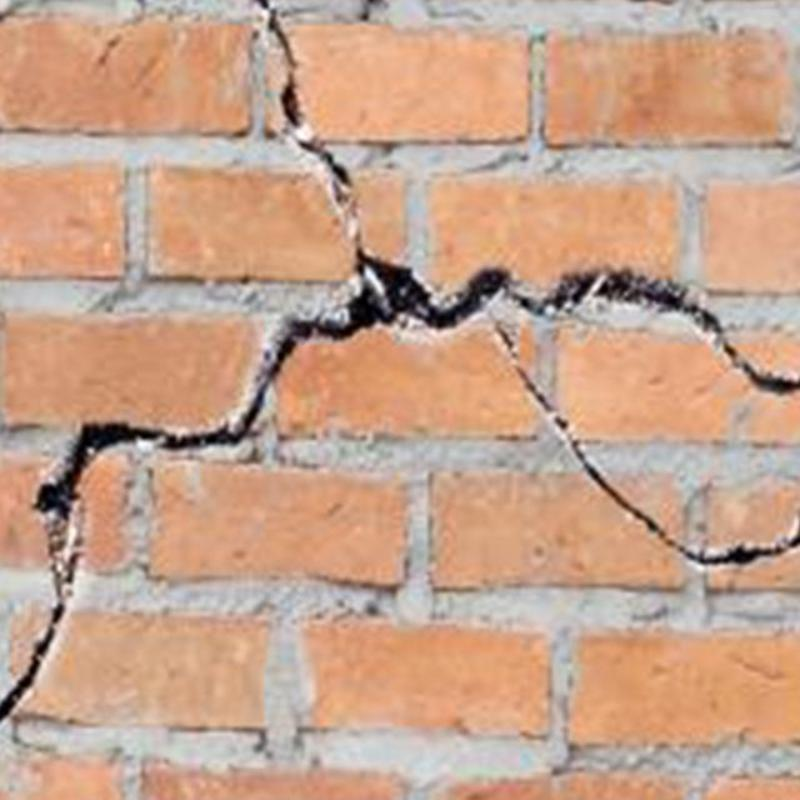pothole: (0, 0, 800, 720), (495, 322, 800, 566)
